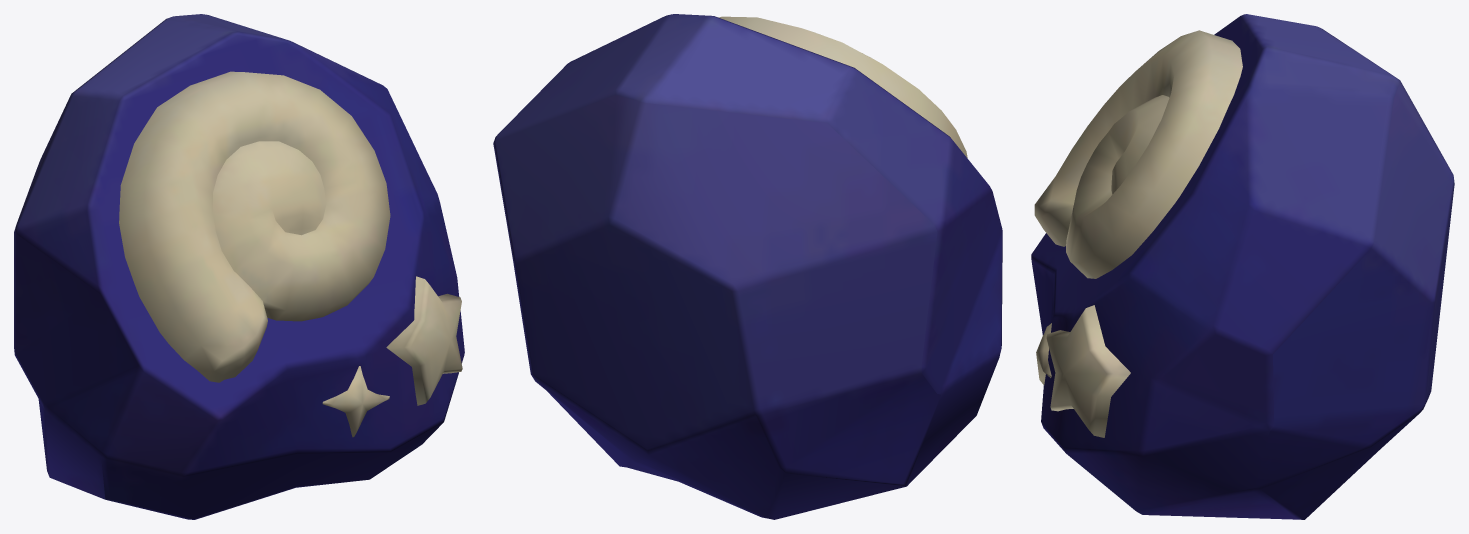
The model's file is UnitIconFossil.glb.
3 views of the same model, side by side, from view 1: azimuth 30°, elevation 25°; view 2: azimuth 150°, elevation 25°; view 3: azimuth 270°, elevation 25° (orthographic). The views are drawn at different scales.
Parts seen in each view (by area): view 1: Cross__mUnitIcon; view 2: Cross__mUnitIcon; view 3: Cross__mUnitIcon.
Part boxes in pixels (bbox=[...]): Cross__mUnitIcon: bbox=[14, 14, 464, 519]; Cross__mUnitIcon: bbox=[493, 14, 1002, 519]; Cross__mUnitIcon: bbox=[1031, 14, 1454, 519].
Bounding box in the file's own units: 4.33 × 4.4 × 3.81.
Materials: 1 (1 with a texture image).
